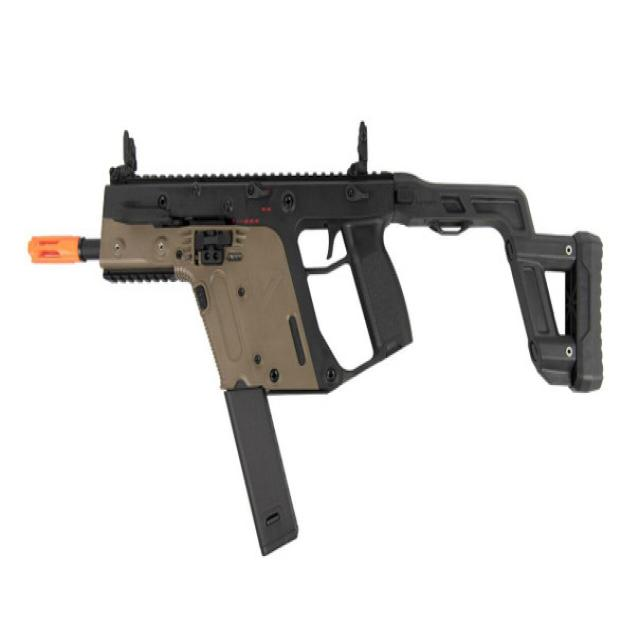SMG: (53, 127, 604, 558)
